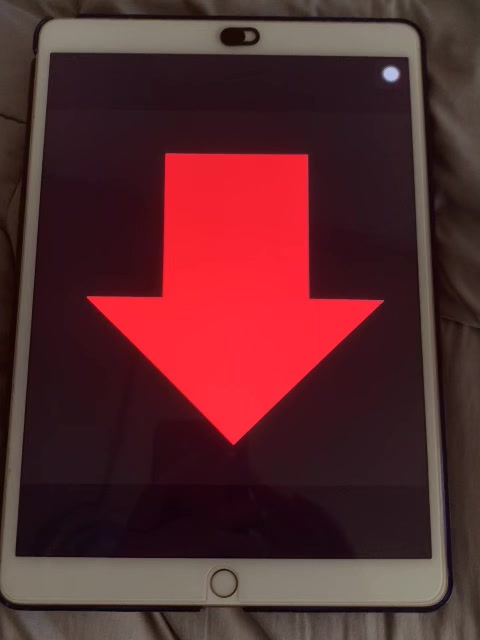down: (83, 146, 389, 453)
